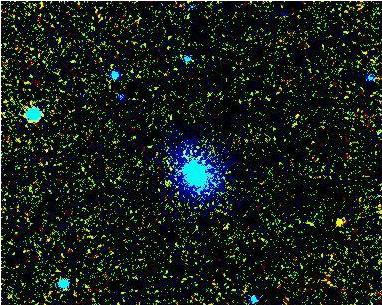star: (324, 208, 354, 238)
